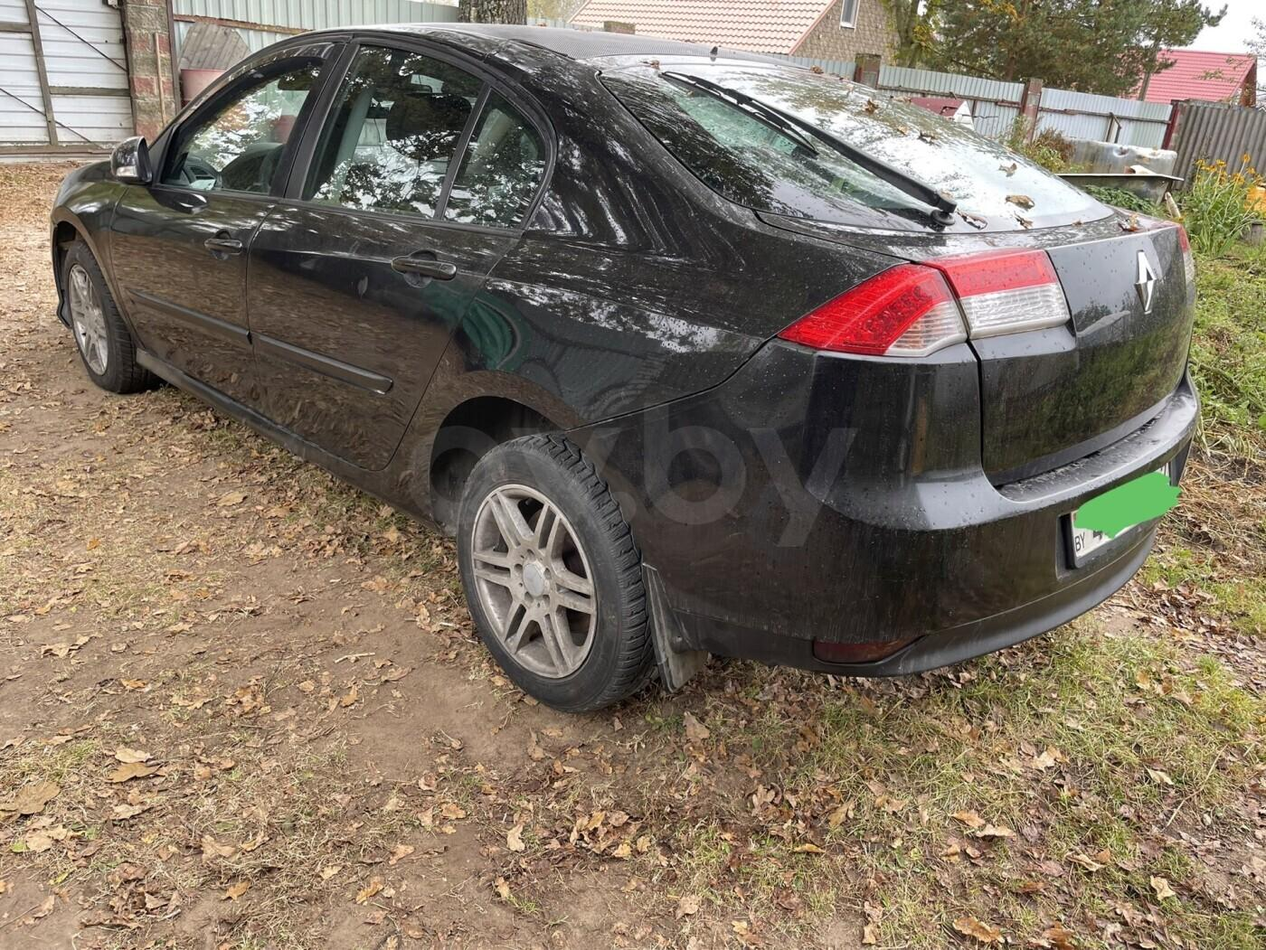Laguna_2007-2011: (50, 24, 1197, 710)
